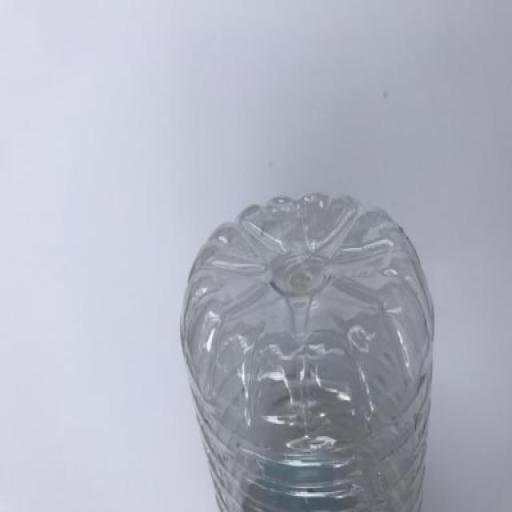plastic: (179, 190, 435, 512)
